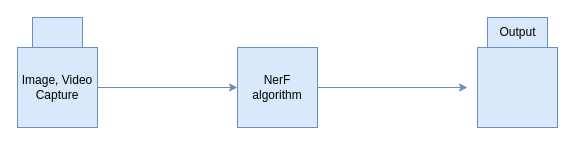
This 575x145 diagram has some shape labels left out. Each missing label, with the box of its shape:
3D model Output: (476, 46, 558, 128)
Input: (32, 16, 82, 48)
